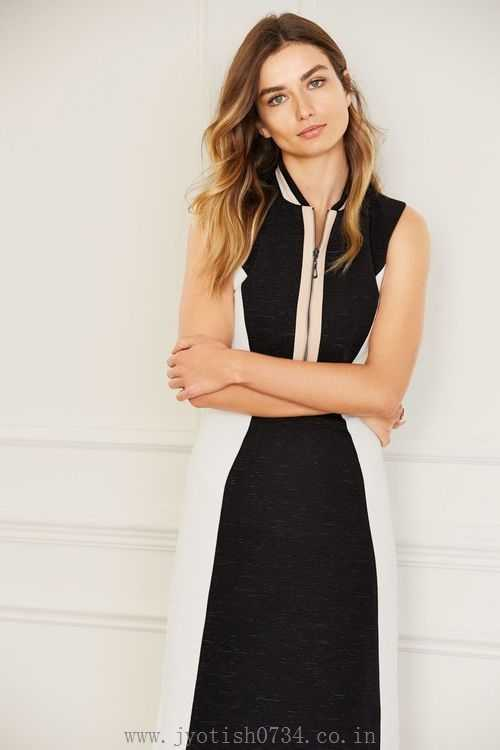C_dress: (159, 168, 411, 741)
